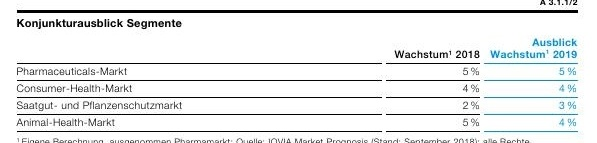table: (0, 0, 597, 143)
